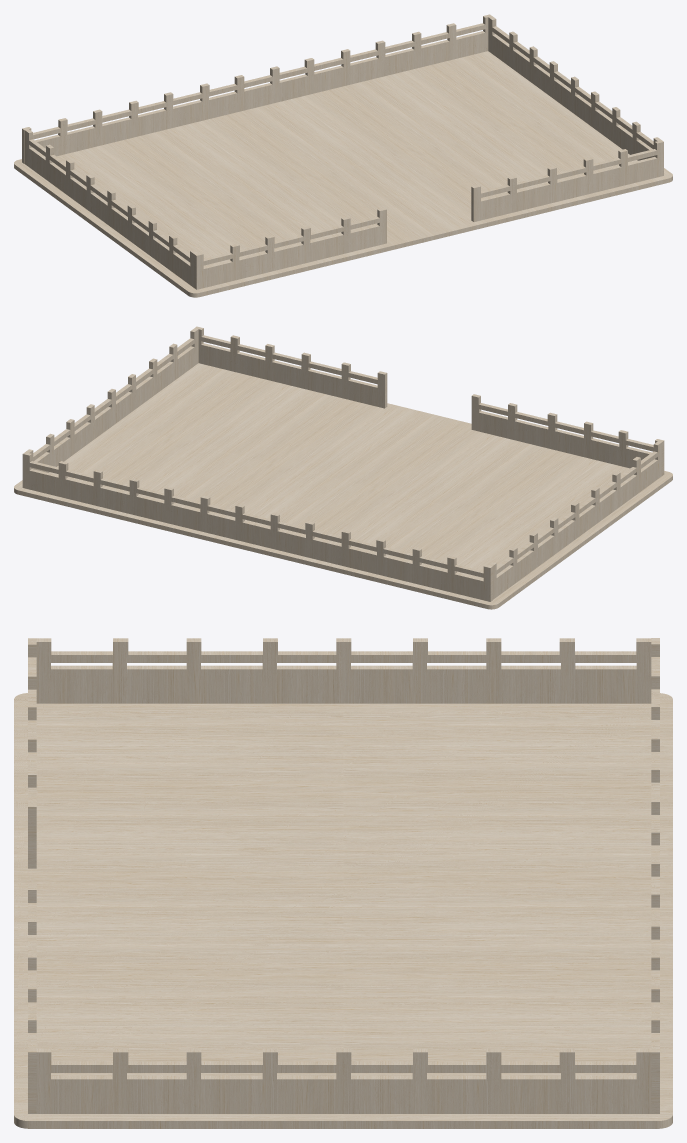
3 views of the same model, one above another, from view 1: azimuth 30°, elevation 25°; view 2: azimuth 150°, elevation 25°; view 3: azimuth 270°, elevation 25° (orthographic). The views are drawn at different scales.
Visible parts, largest first — view 1: Mesh5 Block_81_7_1 ___310_1 Model, Mesh2 ___295_1 Model, Mesh6 ___293_2 Model, Mesh1 ___293_1 Model, Mesh3 ___294_1 Model, Mesh4 ___294_2 Model; view 2: Mesh5 Block_81_7_1 ___310_1 Model, Mesh2 ___295_1 Model, Mesh1 ___293_1 Model, Mesh3 ___294_1 Model, Mesh6 ___293_2 Model, Mesh4 ___294_2 Model; view 3: Mesh5 Block_81_7_1 ___310_1 Model, Mesh3 ___294_1 Model, Mesh4 ___294_2 Model, Mesh2 ___295_1 Model, Mesh1 ___293_1 Model, Mesh6 ___293_2 Model.
Part boxes in pixels (left/top/right/bottom): Mesh5 Block_81_7_1 ___310_1 Model: left=14, top=51, right=672, bottom=297; Mesh2 ___295_1 Model: left=22, top=14, right=491, bottom=163; Mesh6 ___293_2 Model: left=194, top=208, right=386, bottom=289; Mesh1 ___293_1 Model: left=471, top=140, right=663, bottom=221; Mesh3 ___294_1 Model: left=24, top=129, right=197, bottom=287; Mesh4 ___294_2 Model: left=488, top=16, right=661, bottom=160; Mesh5 Block_81_7_1 ___310_1 Model: left=14, top=363, right=672, bottom=609; Mesh2 ___295_1 Model: left=22, top=452, right=492, bottom=601; Mesh1 ___293_1 Model: left=195, top=326, right=387, bottom=408; Mesh3 ___294_1 Model: left=489, top=441, right=661, bottom=599; Mesh6 ___293_2 Model: left=471, top=394, right=664, bottom=475; Mesh4 ___294_2 Model: left=25, top=328, right=198, bottom=472; Mesh5 Block_81_7_1 ___310_1 Model: left=14, top=693, right=672, bottom=1128; Mesh3 ___294_1 Model: left=36, top=638, right=651, bottom=703; Mesh4 ___294_2 Model: left=36, top=1048, right=651, bottom=1113; Mesh2 ___295_1 Model: left=651, top=638, right=659, bottom=1113; Mesh1 ___293_1 Model: left=28, top=883, right=36, bottom=1113; Mesh6 ___293_2 Model: left=28, top=638, right=36, bottom=868.
Size of the model in its own units: 236 by 18.36 by 154.
Materials: 1 (1 with a texture image).
